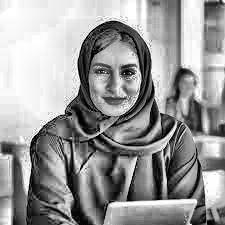happy: (66, 19, 170, 143)
